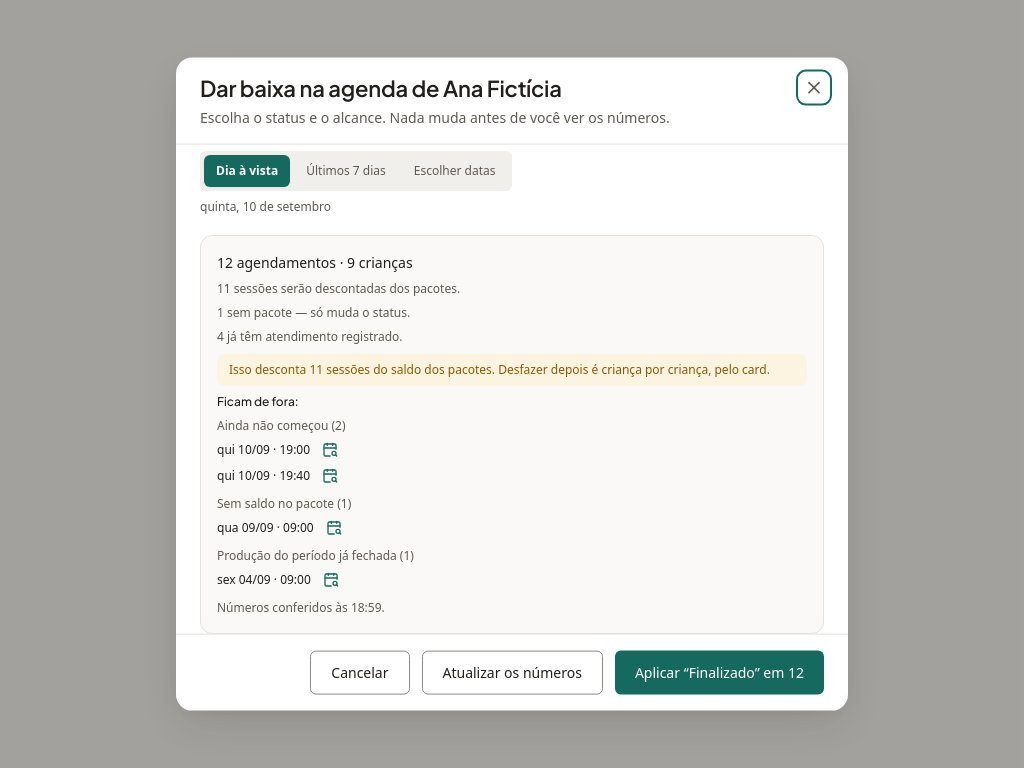
BaixaEmLote — o resultado é mostrado, não só confirmado › deve trocar o corpo pelo resultado, levar o foco ao título e anunciar
(page scrolled)
Note: ACT — sem nenhuma segunda confirmação
Click the button "Aplicar “Finalizado” em 12": [719, 672] box x1=615 y1=650 x2=824 y2=694
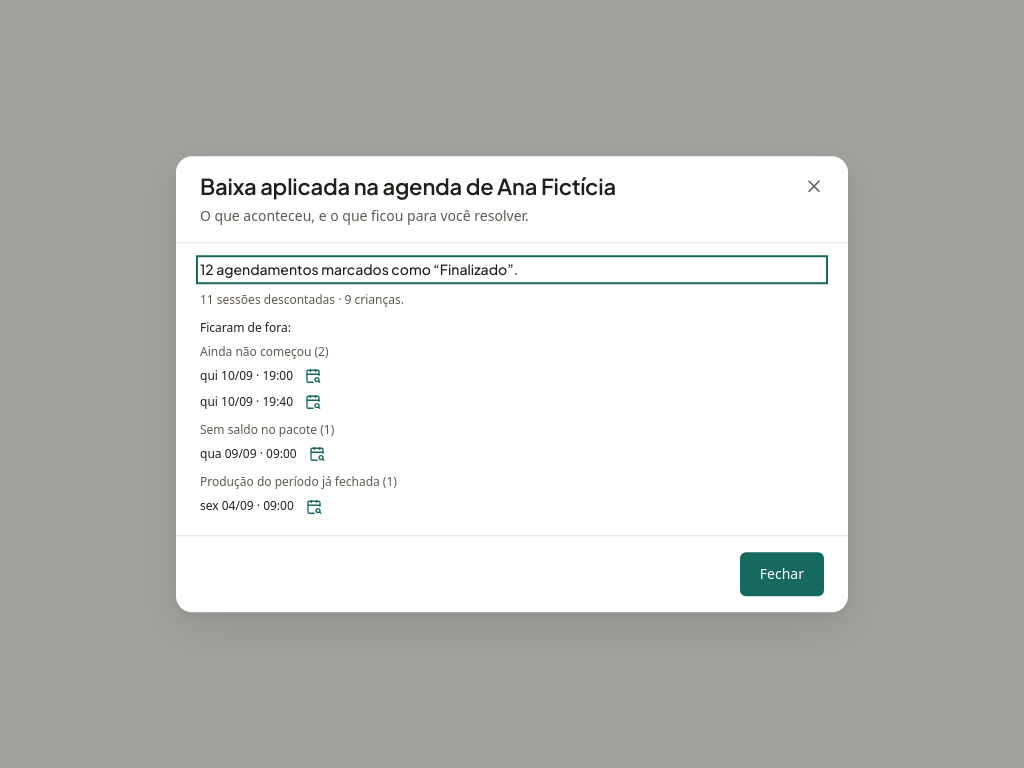
Now the heading "12 agendamentos marcados como “Finalizado”." is shown, box x1=200 y1=260 x2=518 y2=278
Now the text "11 sessões descontadas · 9 crianças." is shown, box x1=200 y1=291 x2=404 y2=308
Now the heading "Baixa aplicada na agenda de Ana Fictícia" is shown, box x1=200 y1=172 x2=616 y2=201
